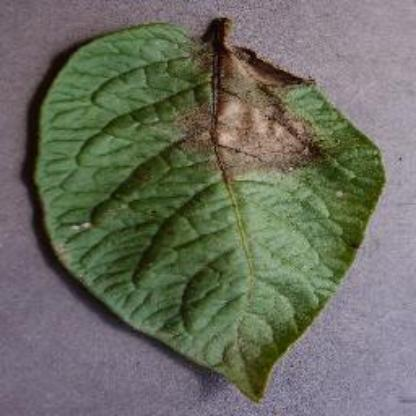Late-Blight: (29, 6, 387, 404)
